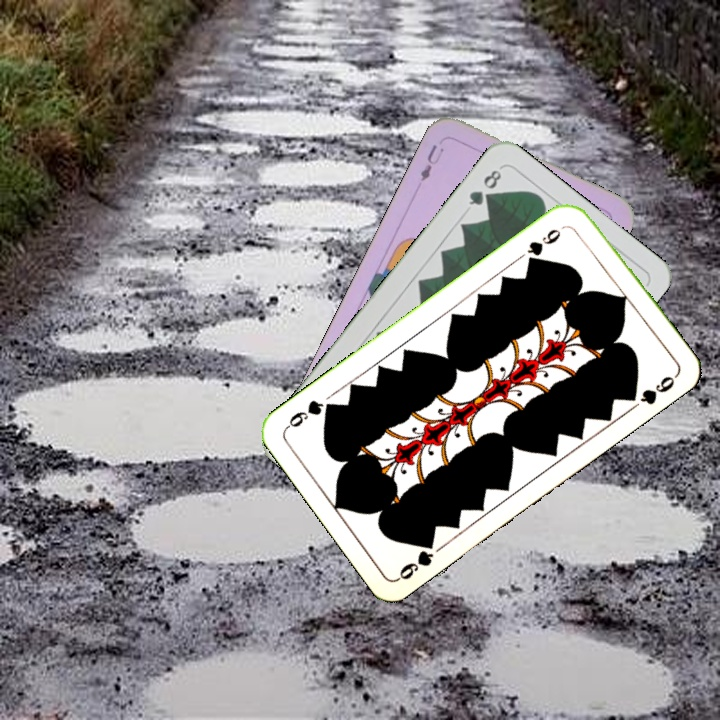EU: (416, 140, 447, 184)
G8: (464, 164, 505, 209)
G9: (393, 534, 438, 583), (523, 224, 564, 267)
